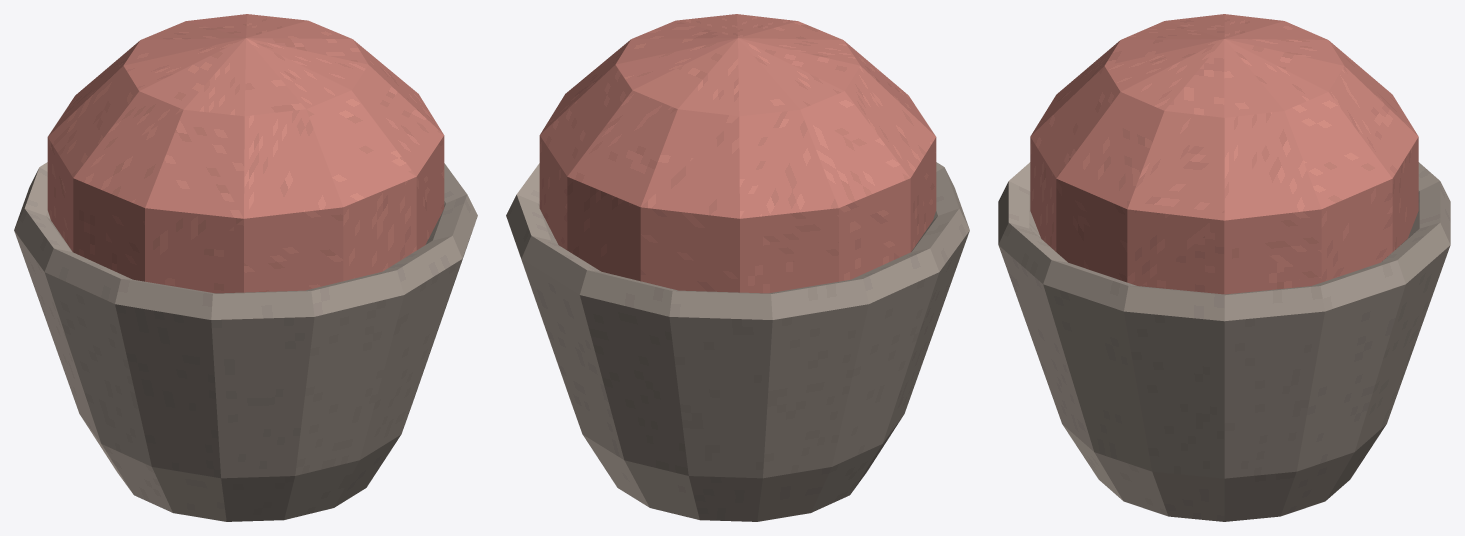
Rendered from icecream_sorbet.glb.
The picture shows the model from 3 angles, left to right: view 1: azimuth 30°, elevation 25°; view 2: azimuth 150°, elevation 25°; view 3: azimuth 270°, elevation 25°; orthographic projection.
Visible parts, largest first — view 1: block_frozen scoop, block_dessert dish; view 2: block_frozen scoop, block_dessert dish; view 3: block_frozen scoop, block_dessert dish.
Part boxes in pixels (x1=…): block_frozen scoop: x1=47, y1=14, x2=444, y2=293; block_dessert dish: x1=14, y1=162, x2=477, y2=521; block_frozen scoop: x1=539, y1=14, x2=936, y2=293; block_dessert dish: x1=506, y1=162, x2=969, y2=521; block_frozen scoop: x1=1030, y1=14, x2=1418, y2=294; block_dessert dish: x1=998, y1=162, x2=1450, y2=521.
Bounding box in the file's own units: 0.118 × 0.1203 × 0.1151.
1 material, 1 textured.
